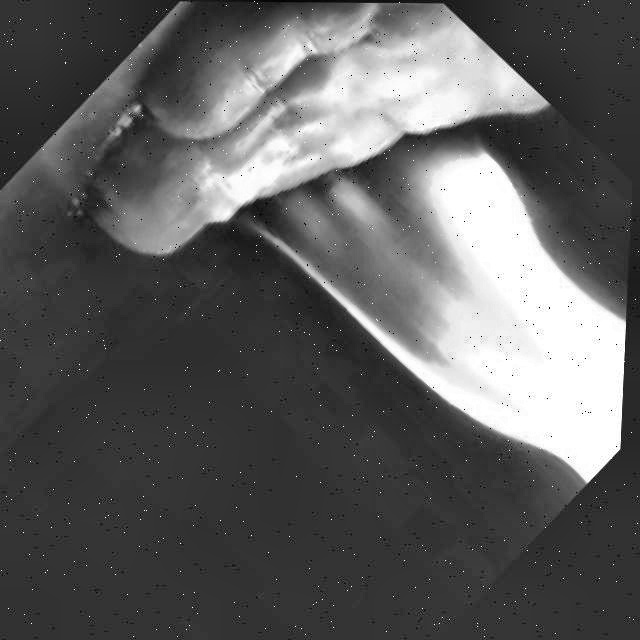Fire: (224, 29, 639, 520)
